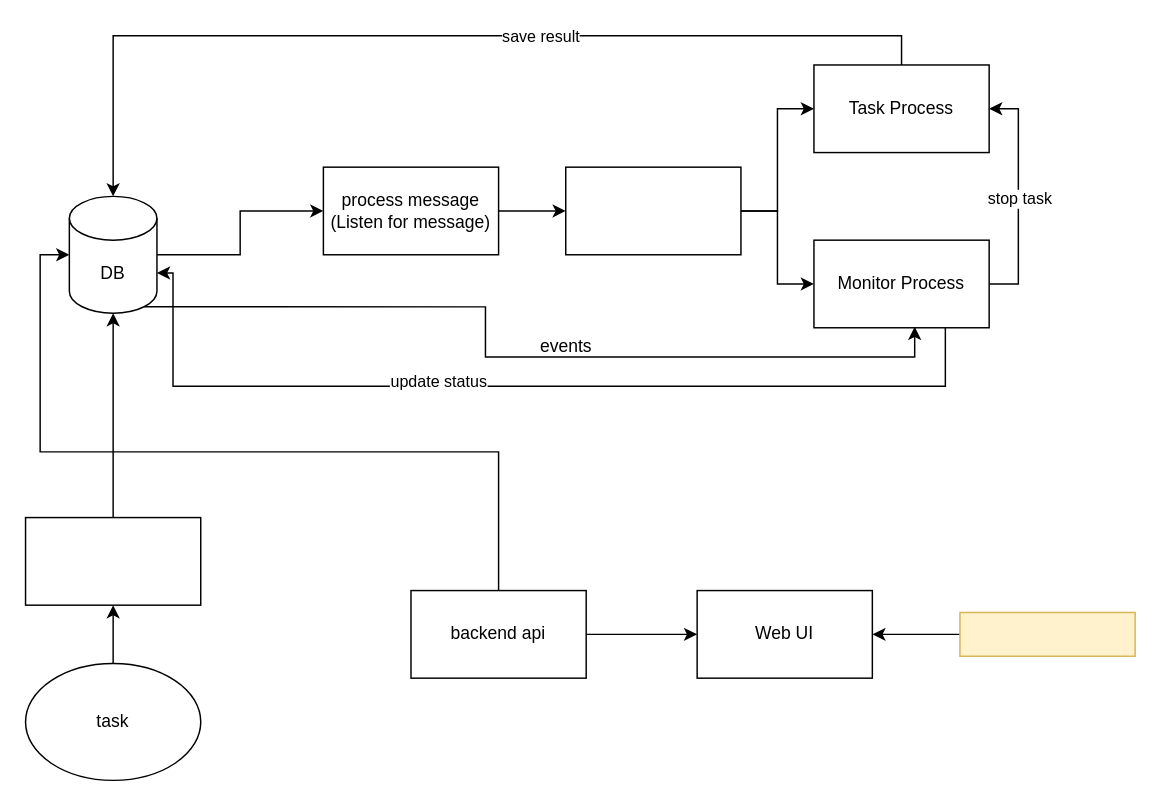
This 1161x806 diagram has some shape labels left out. The shapes that lost their labels are listed below. From the top down, each one's centre as x and y in pixels, then its label:
point (652, 210): create flow (Main Process)
point (112, 560): send_message
point (1046, 633): 可视化控制
